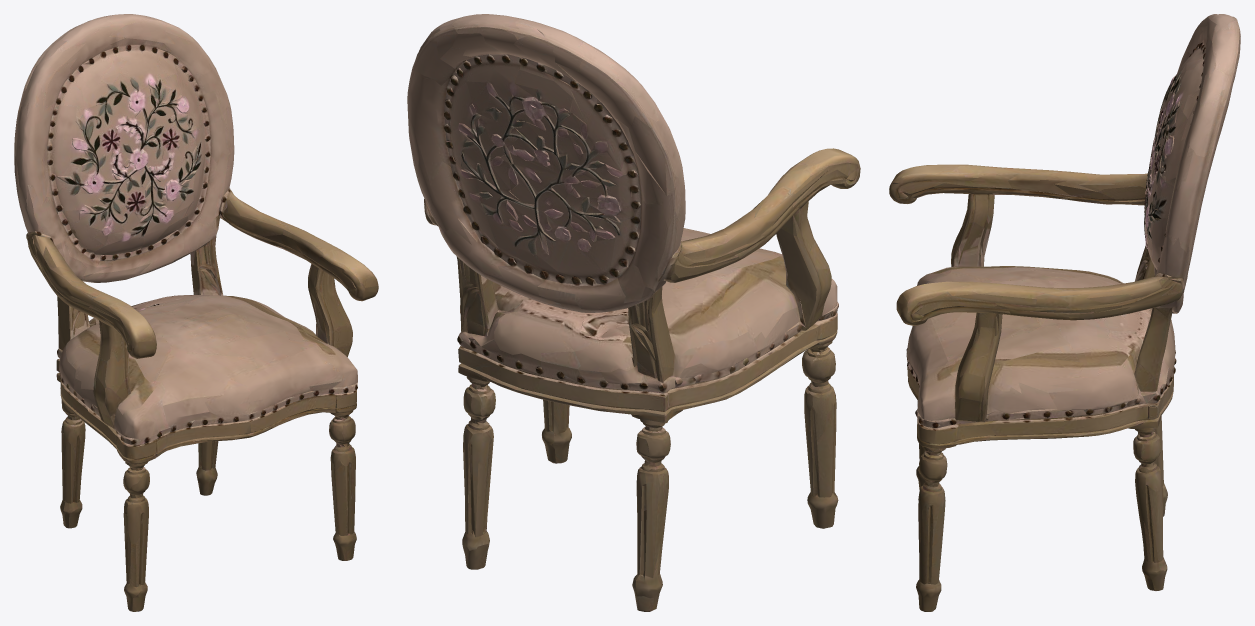
The model's file is royal_gold_carved_dining_chair.glb.
3 renders of one model, left to right at view 1: azimuth 30°, elevation 25°; view 2: azimuth 150°, elevation 25°; view 3: azimuth 270°, elevation 25°, orthographic. The views are drawn at different scales.
Parts seen in each view (by area): view 1: output_unwrapped; view 2: output_unwrapped; view 3: output_unwrapped.
Boxes of the visible parts, x1,y1,x2,y2 form: output_unwrapped: (14, 14, 378, 611); output_unwrapped: (407, 14, 860, 611); output_unwrapped: (889, 14, 1240, 611).
Size of the model in its own units: 1.08 by 1.9 by 1.16.
Materials: 1 (1 with a texture image).
